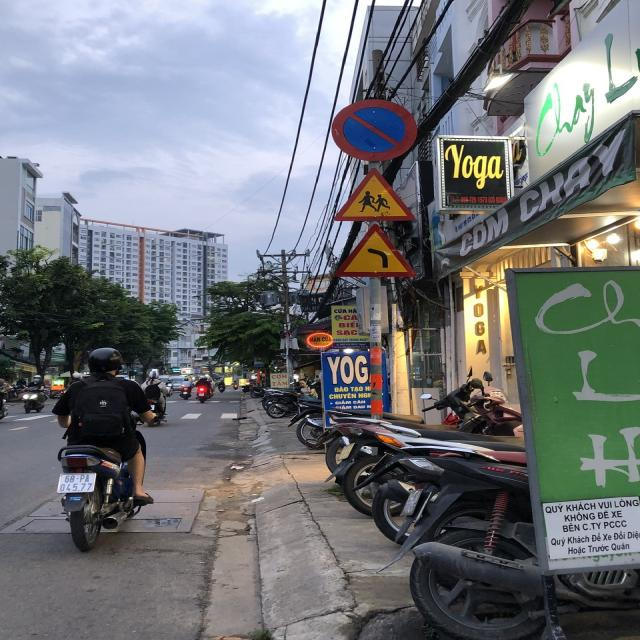Bien bao cam do xe: (328, 92, 423, 163)
Bien bao cho ngoat nguy hiem: (328, 221, 423, 285)
Bien bao tre em: (328, 166, 424, 224)
